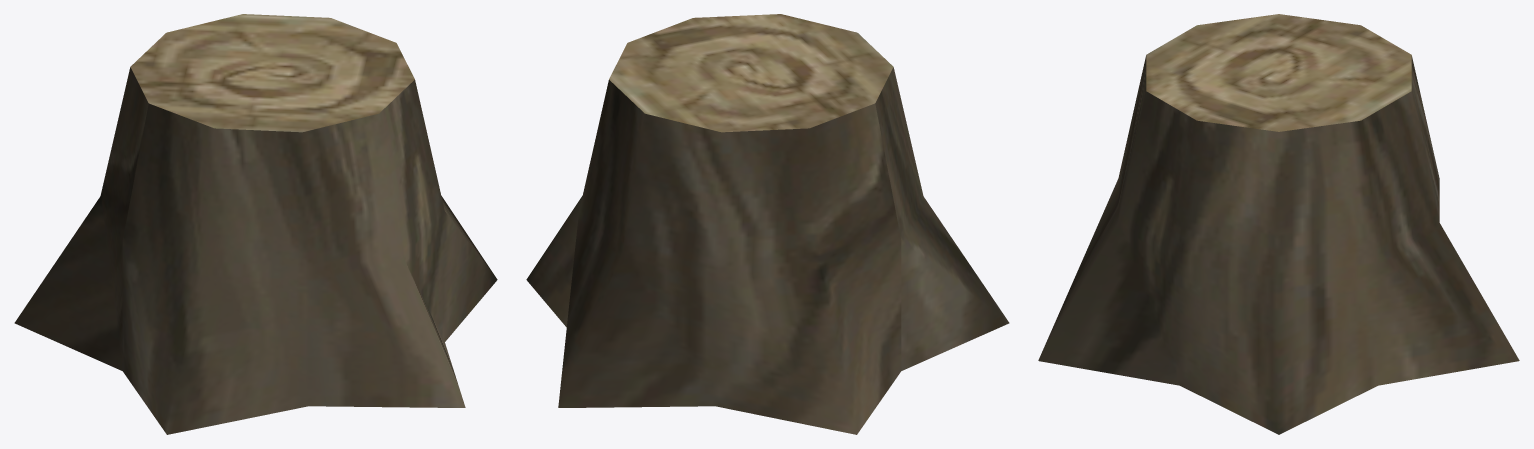
Rendered from tree-cut.fbx.
3 views of the same model, side by side, from view 1: azimuth 30°, elevation 25°; view 2: azimuth 150°, elevation 25°; view 3: azimuth 270°, elevation 25° (orthographic). The views are drawn at different scales.
Parts seen in each view (by area): view 1: tree_tree.000; view 2: tree_tree.000; view 3: tree_tree.000.
Part boxes in pixels (x1=…): tree_tree.000: x1=14, y1=14, x2=497, y2=434; tree_tree.000: x1=526, y1=14, x2=1009, y2=434; tree_tree.000: x1=1038, y1=14, x2=1519, y2=434.
Bounding box in the file's own units: 0.5863 × 0.36 × 0.6164.
